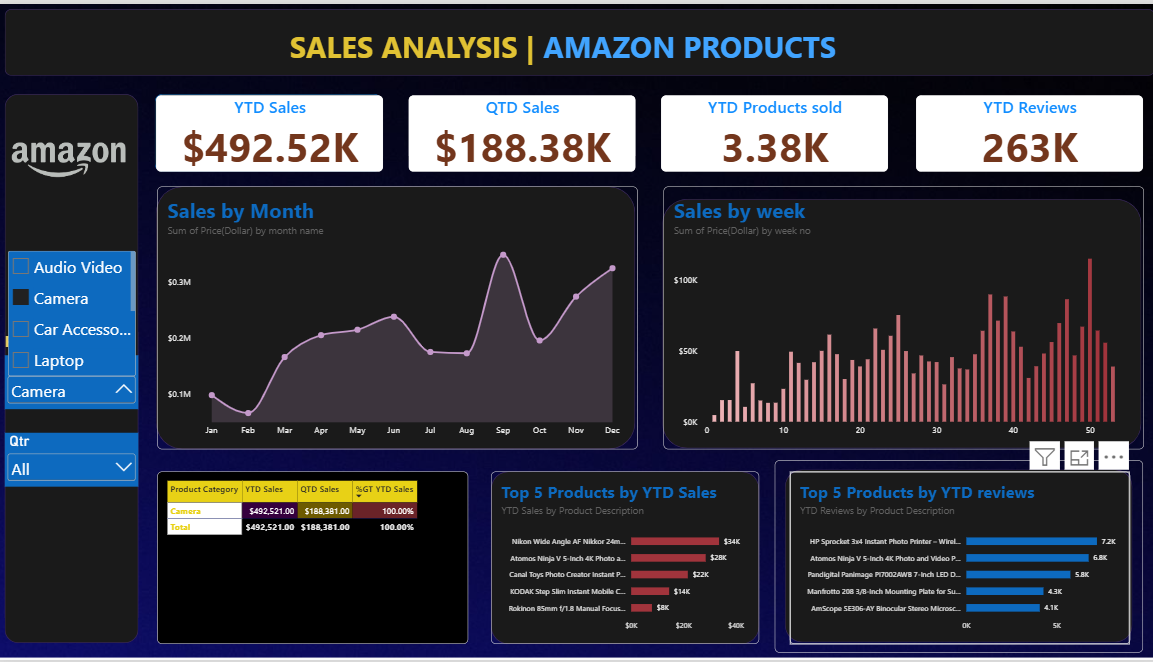

This screenshot's page, from the dashboard's own definition file:
{"tool":"powerbi","page":{"name":"Page 1","canvas":[1920,1080],"ordinal":0},"visuals":[{"type":"shape","box":[14,8,1894,110],"z":0},{"type":"textbox","box":[484,38,1030,80],"z":1000},{"type":"shape","box":[14,148,220,904],"z":2000},{"type":"shape","box":[262,148,374,128],"z":3000},{"type":"cardVisual","fields":{"Data":["Amazon_Data.YTD Sales"]},"box":[264,150,374,126],"z":4000},{"type":"cardVisual","fields":{"Data":["Amazon_Data.QTD Sales"]},"box":[680,150,374,126],"z":5000},{"type":"cardVisual","fields":{"Data":["Amazon_Data.YTD Reviews"]},"box":[1514,150,374,126],"z":6000},{"type":"cardVisual","fields":{"Data":["Amazon_Data.YTD Products sold"]},"box":[1096,150,374,126],"z":7000},{"type":"shape","box":[264.2,300.4,789,432.5],"z":8000},{"type":"areaChart","title":"Sales by Month","fields":{"Category":["date Table.month name"],"Y":["Sum(Amazon_Data.Price(Dollar))"]},"box":[266,300.4,790.8,432.5],"z":9000},{"type":"shape","box":[1096.7,322.1,789,410.8],"z":10000},{"type":"columnChart","title":"Sales by week","fields":{"Category":["date Table.week no"],"Y":["Sum(Amazon_Data.Price(Dollar))"]},"box":[1098.5,300.4,790.8,432.5],"z":11000},{"type":"shape","box":[266,787.2,512.1,266],"z":12000},{"type":"pivotTable","fields":{"Rows":["Amazon_Data.Product Category"],"Values":["Amazon_Data.YTD Sales1","Amazon_Data.QTD Sales","Amazon_Data.YTD Sales"]},"box":[266,769.1,512.1,284.1],"z":13000},{"type":"shape","box":[814.3,769.1,441.6,284.1],"z":14000},{"type":"shape","box":[1283,751,606.2,316.7],"z":15000},{"type":"clusteredBarChart","title":"Top 5 Products by YTD Sales","fields":{"Category":["Amazon_Data.Product Description"],"Y":["Amazon_Data.YTD Sales"]},"box":[814.3,769.1,441.6,284.1],"z":16000},{"type":"clusteredBarChart","title":"Top 5 Products by YTD reviews","fields":{"Category":["Amazon_Data.Product Description"],"Y":["Amazon_Data.YTD Reviews"]},"box":[1306.6,769.1,561,284.1],"z":17000},{"type":"slicer","fields":{"Values":["Amazon_Data.Product Category"]},"box":[14.4,578.4,220.2,88.5],"z":18000},{"type":"slicer","fields":{"Values":["date Table.Qtr"]},"box":[14.4,706,220.2,88.5],"z":19000},{"type":"image","box":[14.4,148.2,216.1,226.4],"z":20000},{"type":"textbox","box":[14.4,539.3,216.1,39.1],"z":21000}]}

Visuals, with their boxes in screenshot pixels (x1, y1, x2, y2), scaled from the page's 1920x1080 canvas onto the 1153x662 screenshot:
shape: select_region(8, 5, 1146, 72)
textbox: select_region(291, 23, 909, 72)
shape: select_region(8, 91, 141, 645)
shape: select_region(157, 91, 382, 169)
cardVisual - Amazon_Data.YTD Sales: select_region(159, 92, 383, 169)
cardVisual - Amazon_Data.QTD Sales: select_region(408, 92, 633, 169)
cardVisual - Amazon_Data.YTD Reviews: select_region(909, 92, 1134, 169)
cardVisual - Amazon_Data.YTD Products sold: select_region(658, 92, 883, 169)
shape: select_region(159, 184, 632, 449)
"Sales by Month" areaChart: select_region(160, 184, 635, 449)
shape: select_region(659, 197, 1132, 449)
"Sales by week" columnChart: select_region(660, 184, 1135, 449)
shape: select_region(160, 483, 467, 646)
pivotTable - Amazon_Data.Product Category x Amazon_Data.YTD Sales1: select_region(160, 471, 467, 646)
shape: select_region(489, 471, 754, 646)
shape: select_region(770, 460, 1135, 654)
"Top 5 Products by YTD Sales" clusteredBarChart: select_region(489, 471, 754, 646)
"Top 5 Products by YTD reviews" clusteredBarChart: select_region(785, 471, 1122, 646)
slicer - Amazon_Data.Product Category: select_region(9, 355, 141, 409)
slicer - date Table.Qtr: select_region(9, 433, 141, 487)
image: select_region(9, 91, 138, 230)
textbox: select_region(9, 331, 138, 355)
